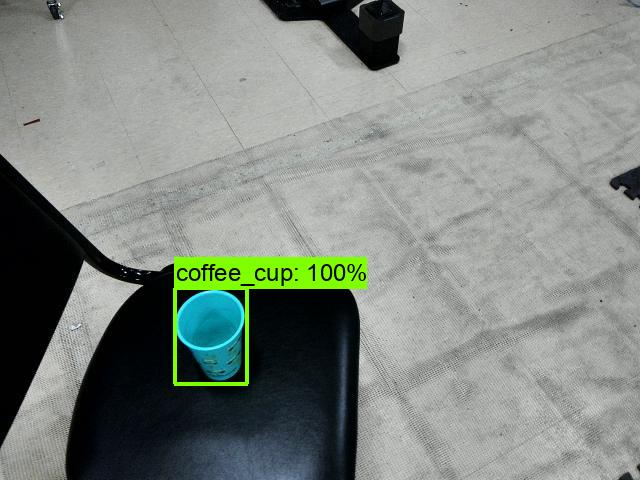coffee_cup: (174, 289, 249, 381)
